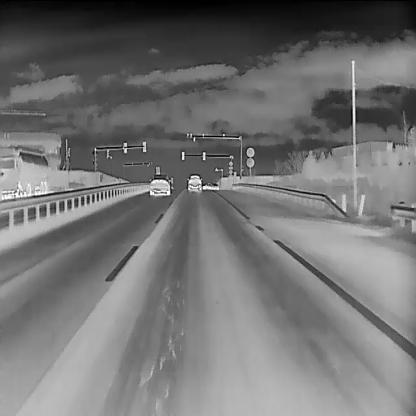car: (0, 142, 47, 199), (148, 173, 172, 194), (186, 173, 202, 190), (202, 181, 219, 190)
